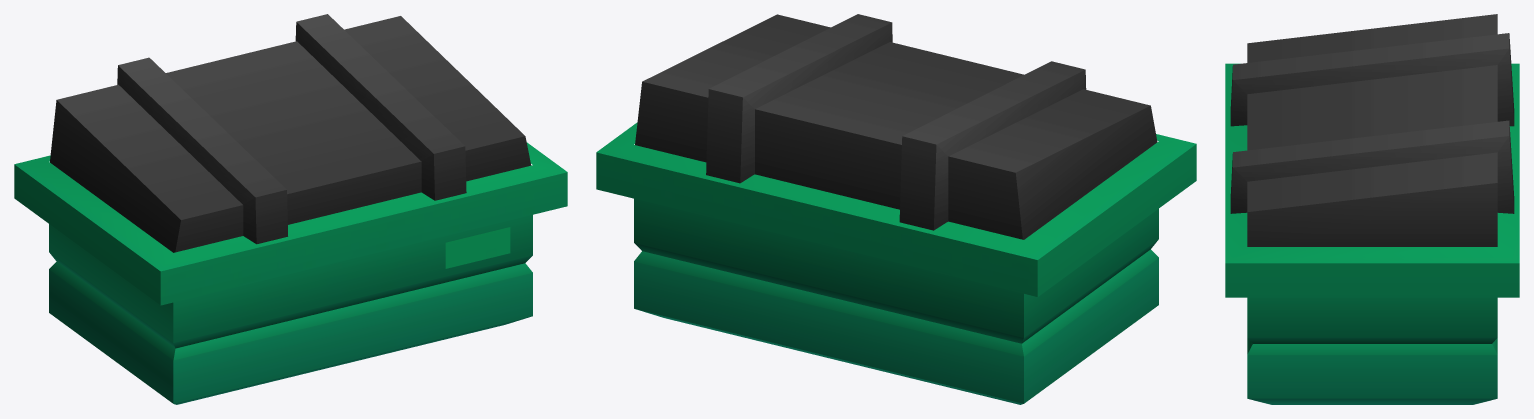
Rendered from kk_dumpster.glb.
3 renders of one model, left to right at view 1: azimuth 30°, elevation 25°; view 2: azimuth 150°, elevation 25°; view 3: azimuth 270°, elevation 25°, orthographic. The views are drawn at different scales.
Visible parts, largest first — view 1: dumpster; view 2: dumpster; view 3: dumpster.
Part boxes in pixels (x1,y1,x2,y2): dumpster: (14, 14, 567, 404); dumpster: (596, 14, 1196, 404); dumpster: (1225, 14, 1519, 404).
Bounding box in the file's own units: 0.5659 × 0.3173 × 0.3528.
Materials: 1 (1 with a texture image).
